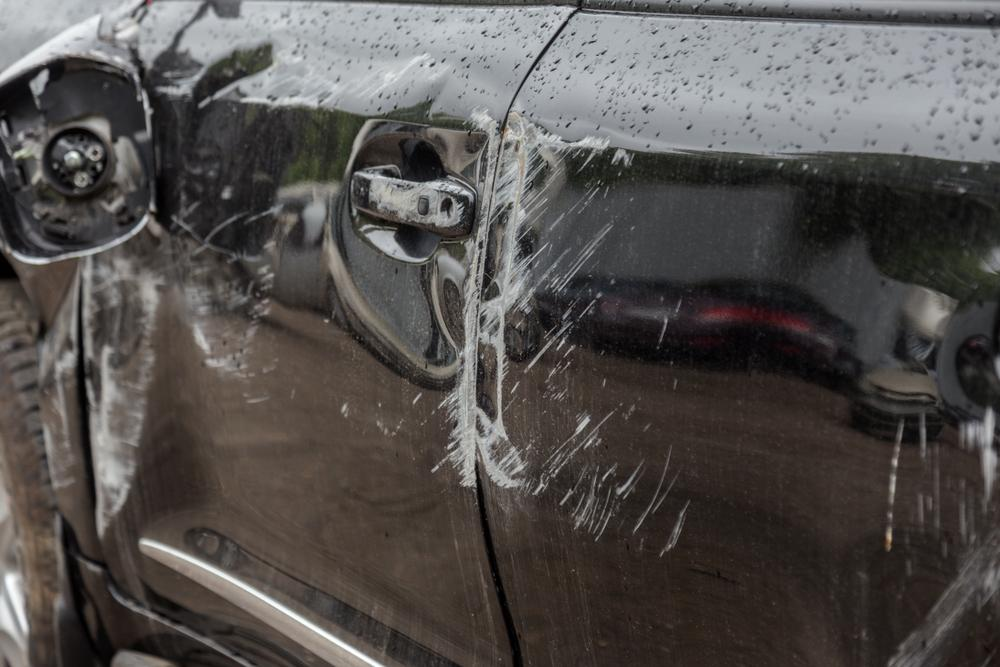dent: (337, 204, 458, 373)
scratch: (477, 107, 688, 544), (84, 206, 276, 546), (872, 385, 1000, 667), (435, 106, 500, 494), (368, 176, 475, 228)
